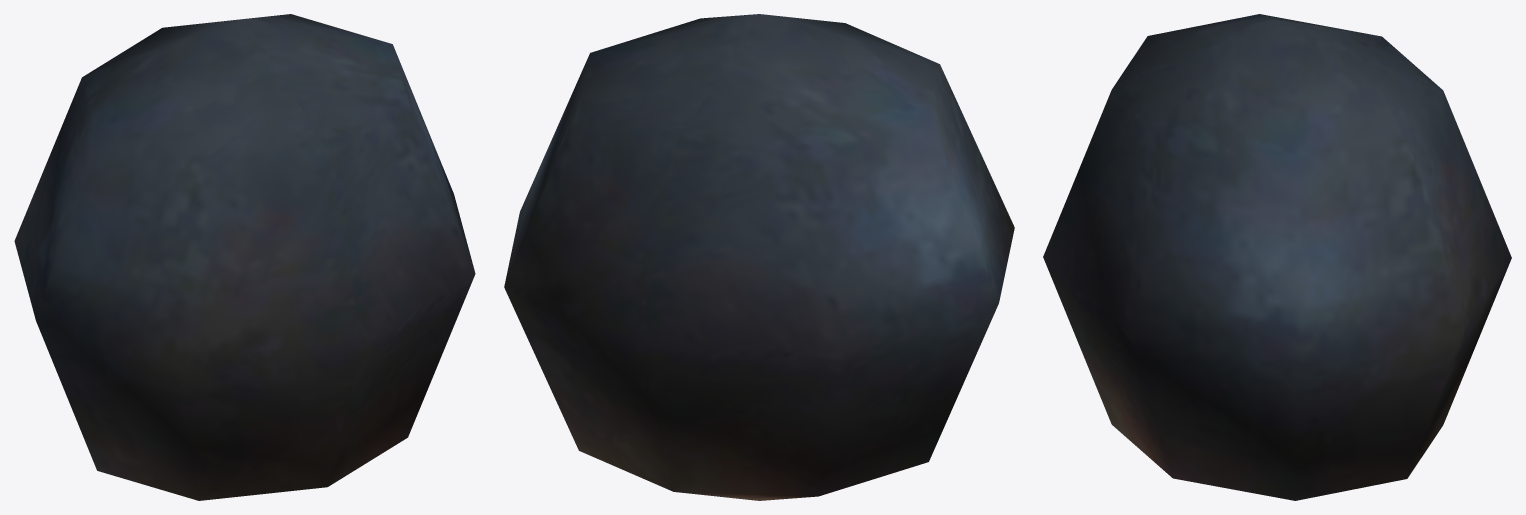
The picture shows the model from 3 angles, left to right: view 1: azimuth 30°, elevation 25°; view 2: azimuth 150°, elevation 25°; view 3: azimuth 270°, elevation 25°; orthographic projection. The views are drawn at different scales.
Parts seen in each view (by area): view 1: pasted__Combined_Mesh_root_scene__Mesh_polySurface4506; view 2: pasted__Combined_Mesh_root_scene__Mesh_polySurface4506; view 3: pasted__Combined_Mesh_root_scene__Mesh_polySurface4506.
Part boxes in pixels (x1=…): pasted__Combined_Mesh_root_scene__Mesh_polySurface4506: x1=14, y1=14, x2=475, y2=500; pasted__Combined_Mesh_root_scene__Mesh_polySurface4506: x1=504, y1=14, x2=1014, y2=500; pasted__Combined_Mesh_root_scene__Mesh_polySurface4506: x1=1043, y1=14, x2=1511, y2=500.
Bounding box in the file's own units: 1.27 × 1.3 × 1.17.
